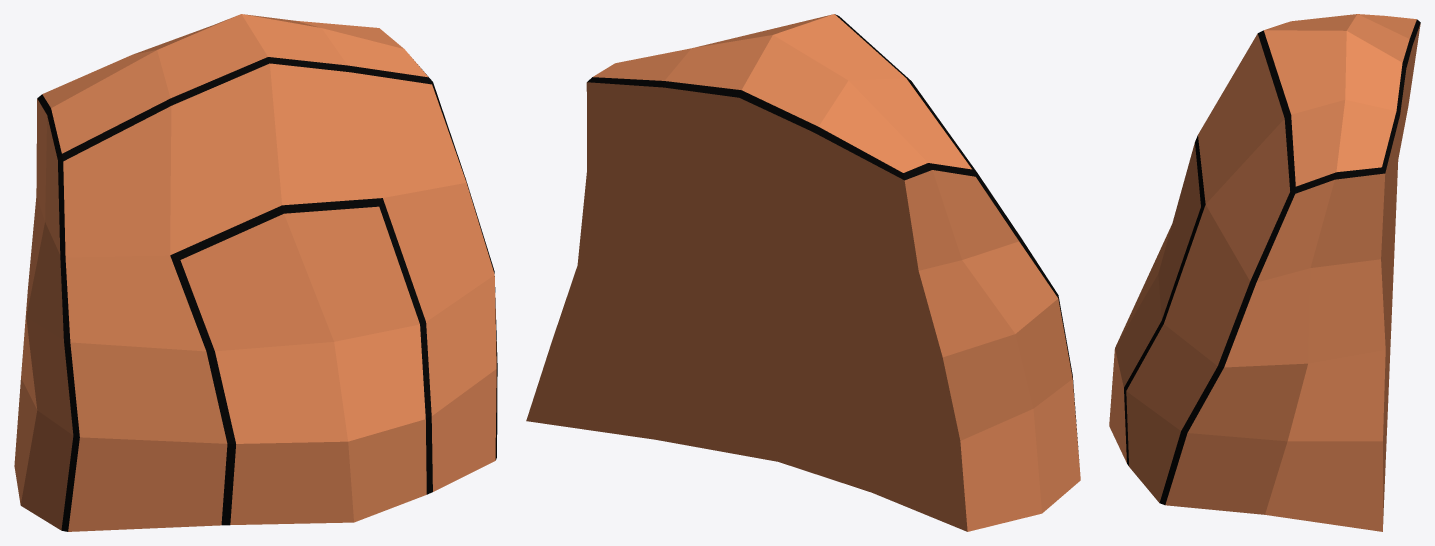
File: RockWall02.fbx
3 views of the same model, side by side, from view 1: azimuth 30°, elevation 25°; view 2: azimuth 150°, elevation 25°; view 3: azimuth 270°, elevation 25° (orthographic). The views are drawn at different scales.
Visible parts, largest first — view 1: Cube.018; view 2: Cube.018; view 3: Cube.018.
Boxes of the visible parts, x1,y1,x2,y2 form: Cube.018: [14, 14, 497, 531]; Cube.018: [526, 14, 1080, 531]; Cube.018: [1109, 14, 1420, 531].
Size of the model in its own units: 1286 by 1117 by 783.
